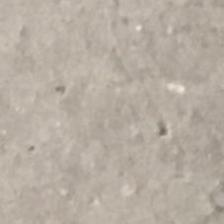Non_Crack: (9, 14, 207, 193)
